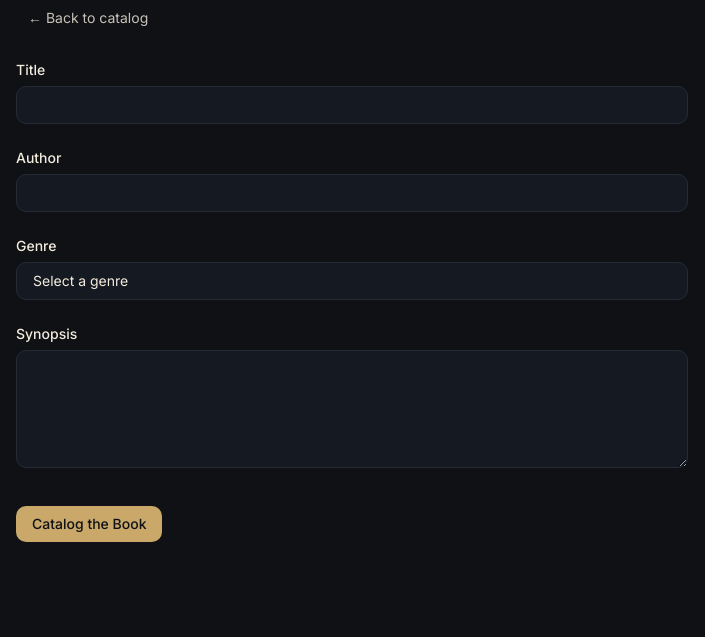
Scenario: BookForm › shows form-level API errors through an alert
Step 1. Type "The Unquiet Archive" into the field labelled "Title" → (352, 105), box 16,86 -> 688,124
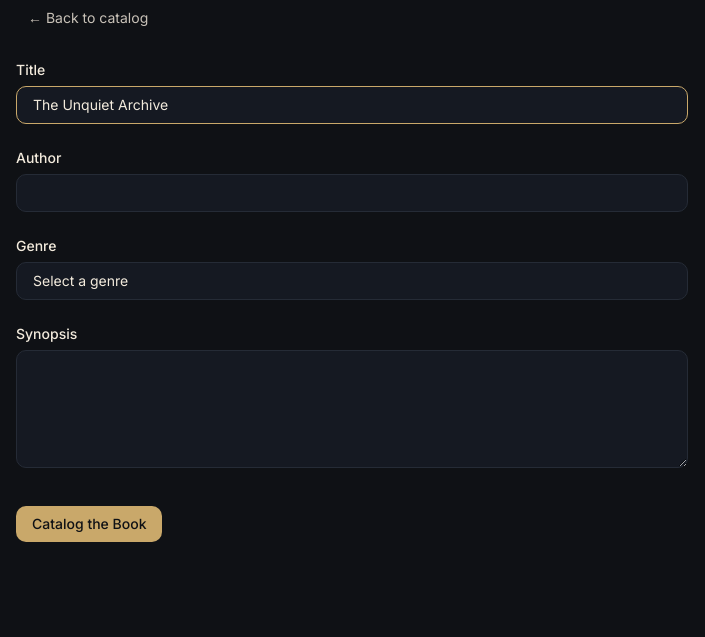
Step 2. Type "Ada Lovelace" into the field labelled "Author" → (352, 193), box 16,174 -> 688,212
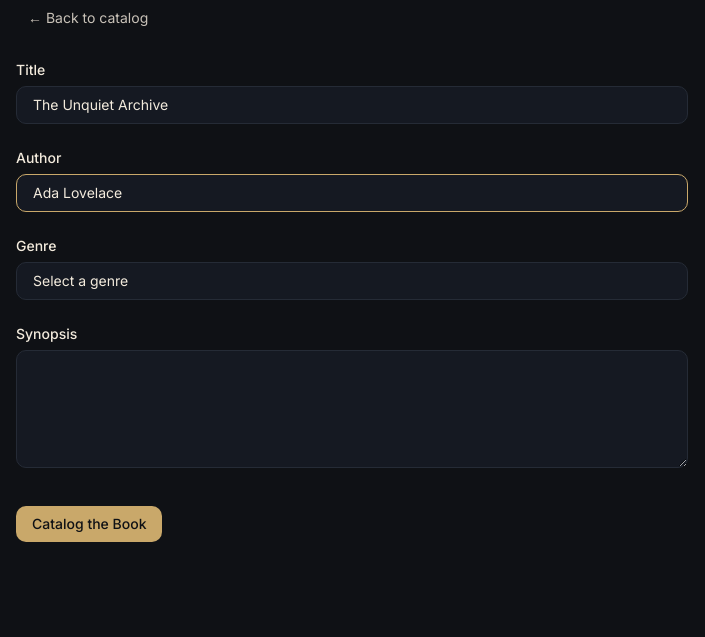
Step 3. Select "Fantasy" in the dropdown labelled "Genre" → (352, 281), box 16,262 -> 688,300
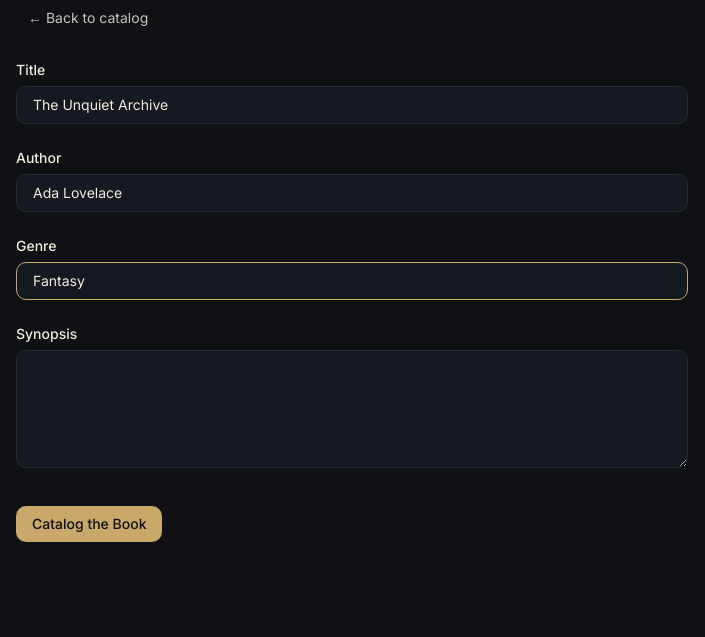
Step 4. Type "A catalog of doors that open only once." into the text box labelled "Synopsis" → (352, 409), box 16,350 -> 688,468
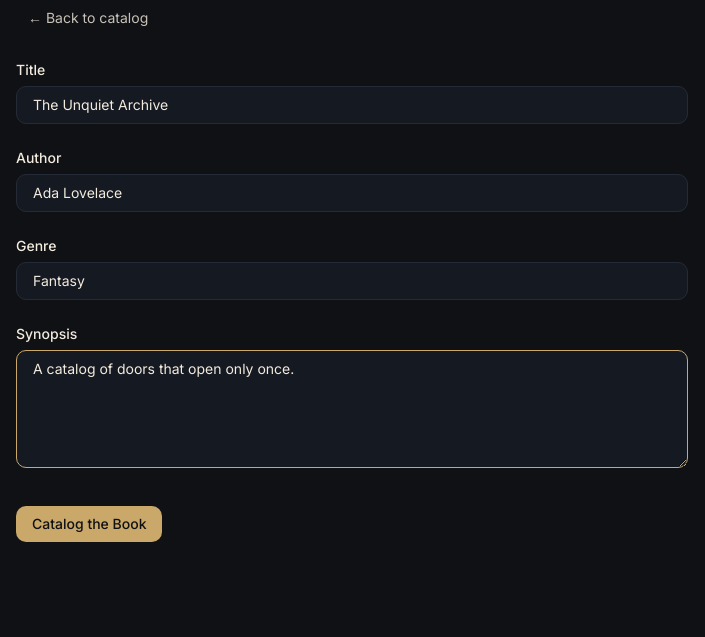
Step 5. Click the button "Catalog the Book" → (89, 524), box 16,506 -> 162,542
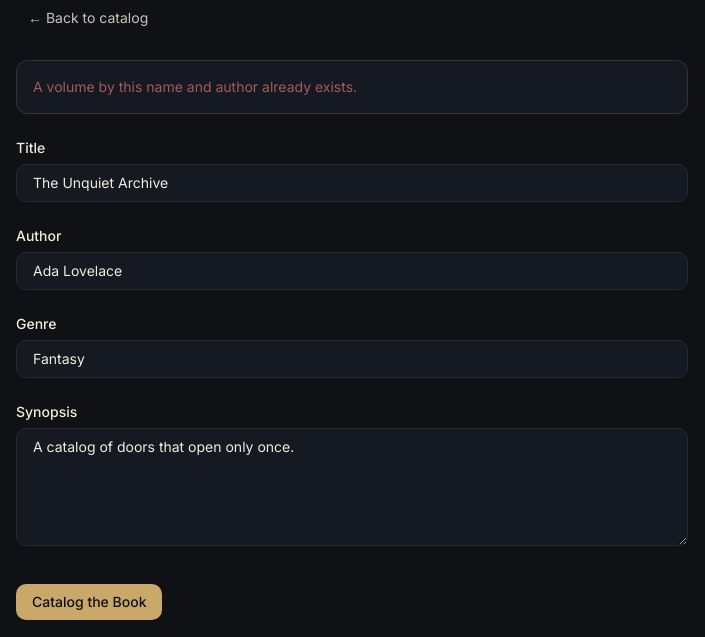
Now the message reads "A volume by this name and author already exists.", box 33,78 -> 357,95
